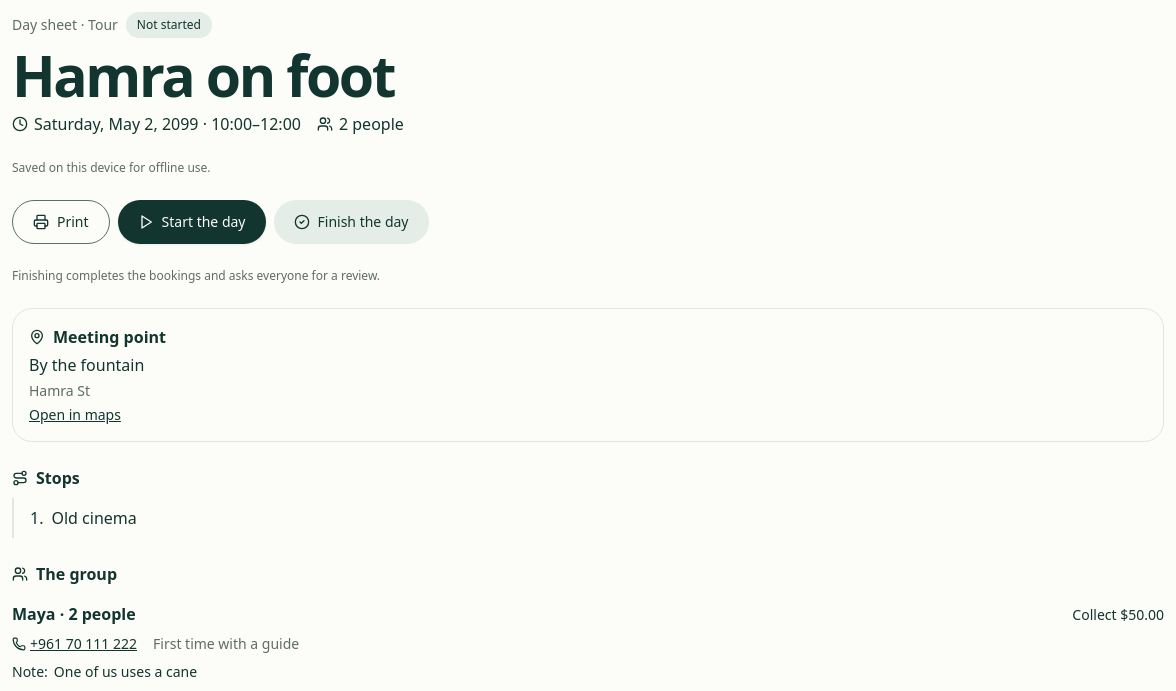
Test: running the day › starts the day
Click the button "Start the day" at point(192, 222), box [118,200,266,244]
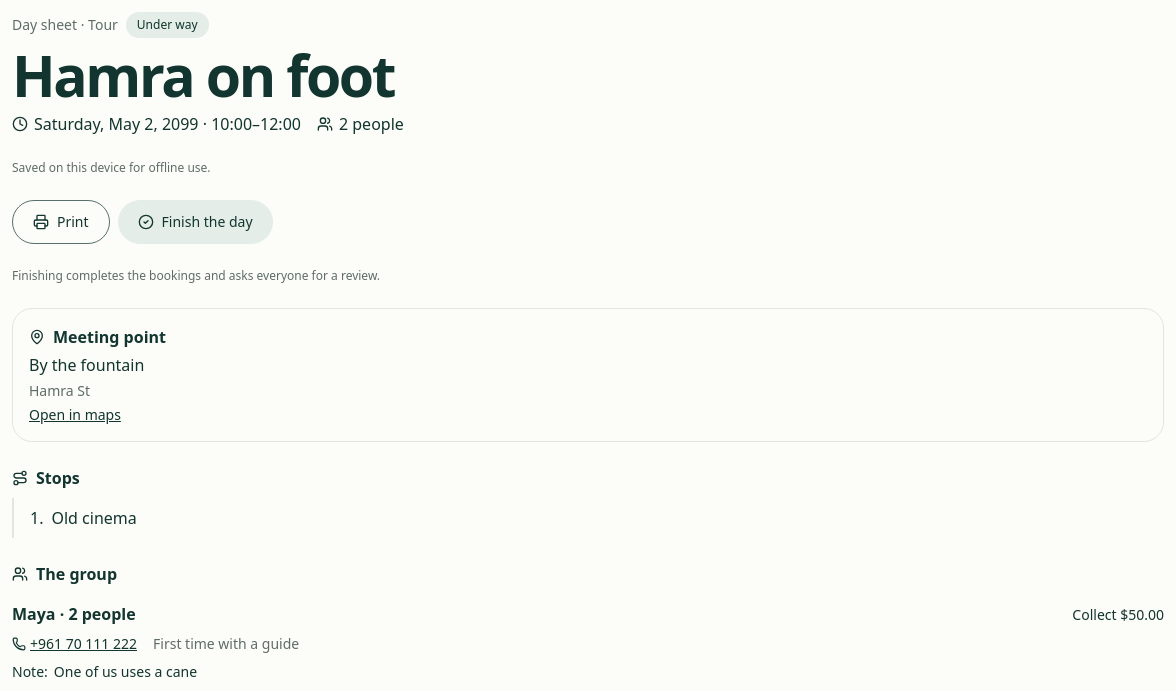
expect the text "Under way" is shown: met, box [126,12,208,38]
